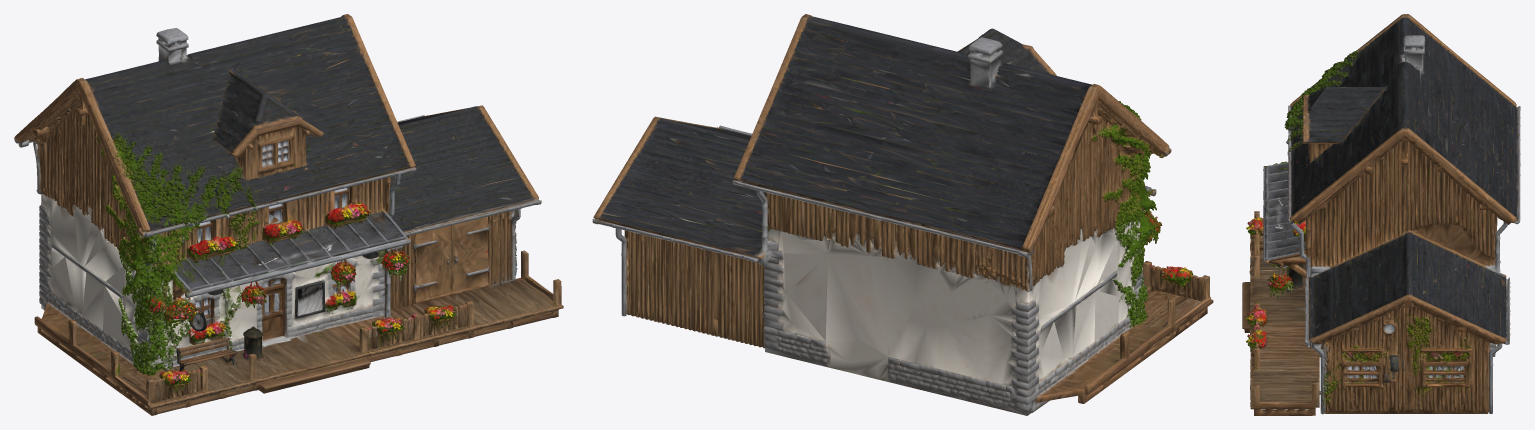
Rendered from ST_Schwarzach_RUNTIME_v001.glb.
3 views of the same model, side by side, from view 1: azimuth 30°, elevation 25°; view 2: azimuth 150°, elevation 25°; view 3: azimuth 270°, elevation 25° (orthographic). The views are drawn at different scales.
Parts seen in each view (by area): view 1: Mesh_0.001; view 2: Mesh_0.001; view 3: Mesh_0.001.
Part boxes in pixels (x1,y1,x2,y2): Mesh_0.001: (14, 14, 563, 415); Mesh_0.001: (592, 14, 1213, 415); Mesh_0.001: (1242, 14, 1520, 415).
Bounding box in the file's own units: 0.1138 × 0.074 × 0.0741.
1 material, 1 textured.
